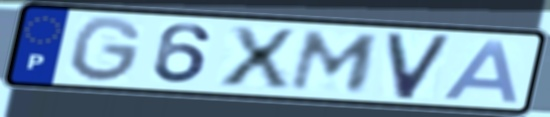6: (153, 22, 212, 86)
A: (439, 37, 523, 105)
G: (68, 14, 146, 85)
M: (285, 28, 385, 94)
V: (383, 31, 456, 102)
X: (217, 24, 299, 90)
